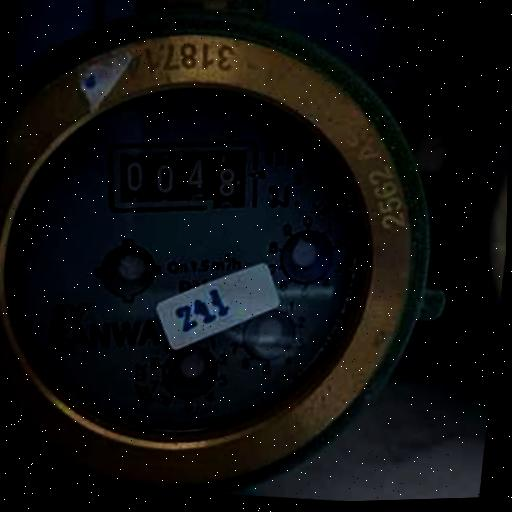0: (114, 148, 158, 204), (147, 147, 188, 203)
4: (177, 147, 220, 201)
8: (209, 146, 251, 210)
border_water_meter_number: (100, 126, 265, 224)
